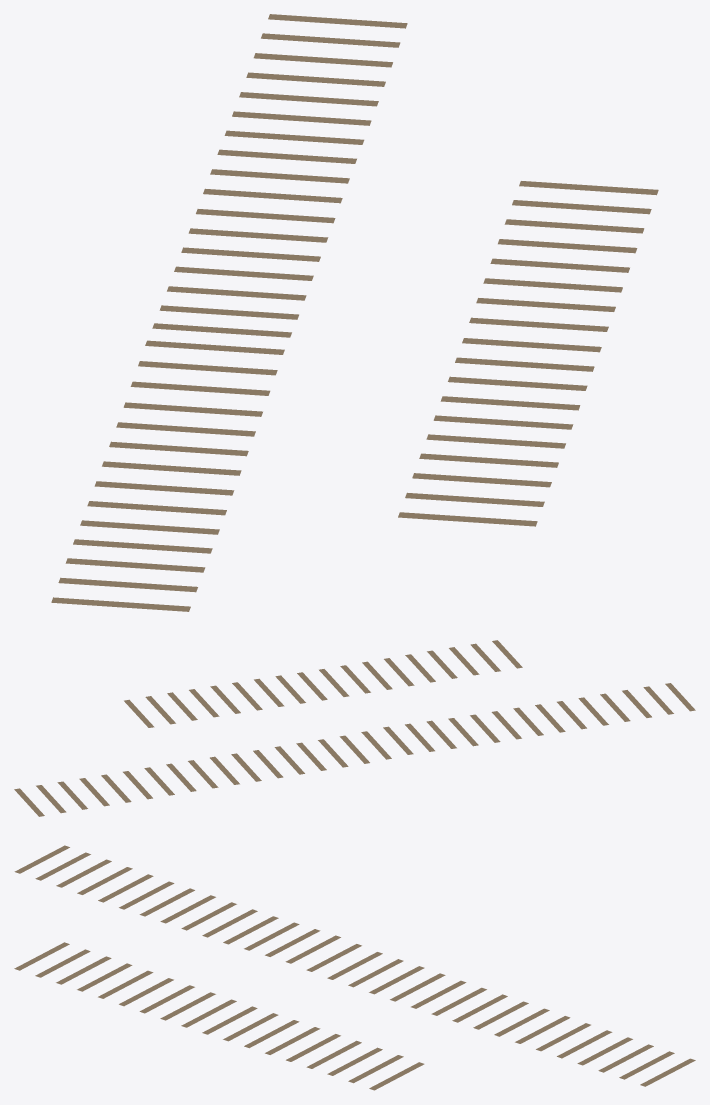
Rendered from c_1629_17821_rail_sleeper.glb.
3 views of the same model, one above another, from view 1: azimuth 30°, elevation 25°; view 2: azimuth 150°, elevation 25°; view 3: azimuth 270°, elevation 25° (orthographic). The views are drawn at different scales.
Visible parts, largest first — view 1: geometry_0; view 2: geometry_0; view 3: geometry_0.
Boxes of the visible parts, x1,y1,x2,y2 form: geometry_0: (51, 14, 658, 611); geometry_0: (14, 640, 695, 816); geometry_0: (14, 845, 695, 1090).
Size of the model in its own units: 17.4 by 0.0953 by 20.34.
